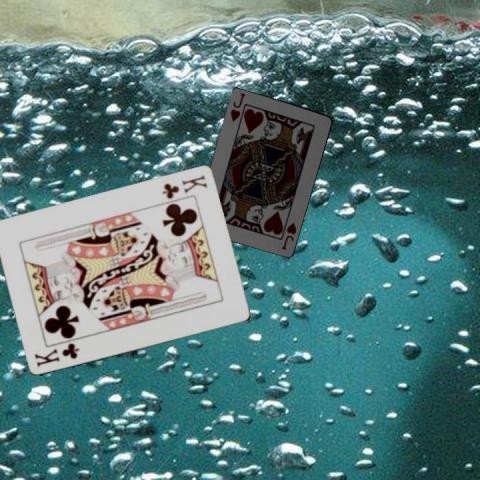Jh: (227, 90, 247, 123), (279, 219, 297, 251)
Kc: (158, 172, 208, 200), (31, 340, 82, 367)
